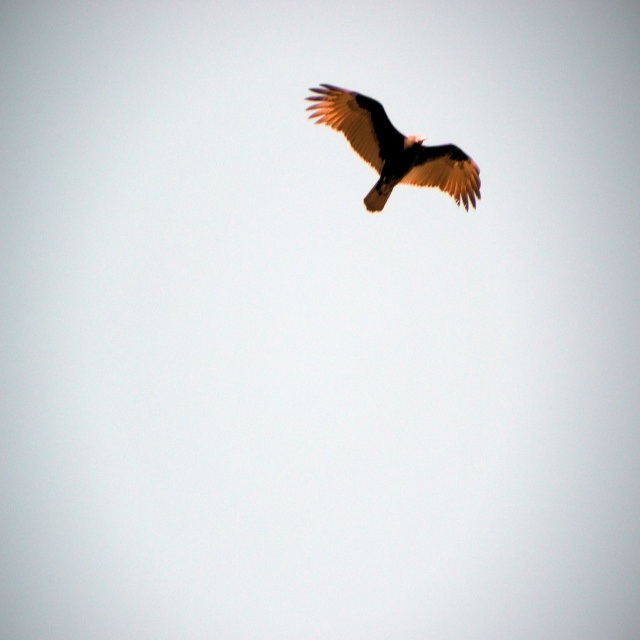Eagle: (300, 78, 484, 217)
